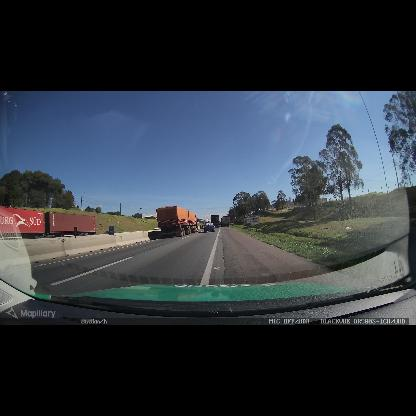I-SA: (247, 217, 259, 224)
